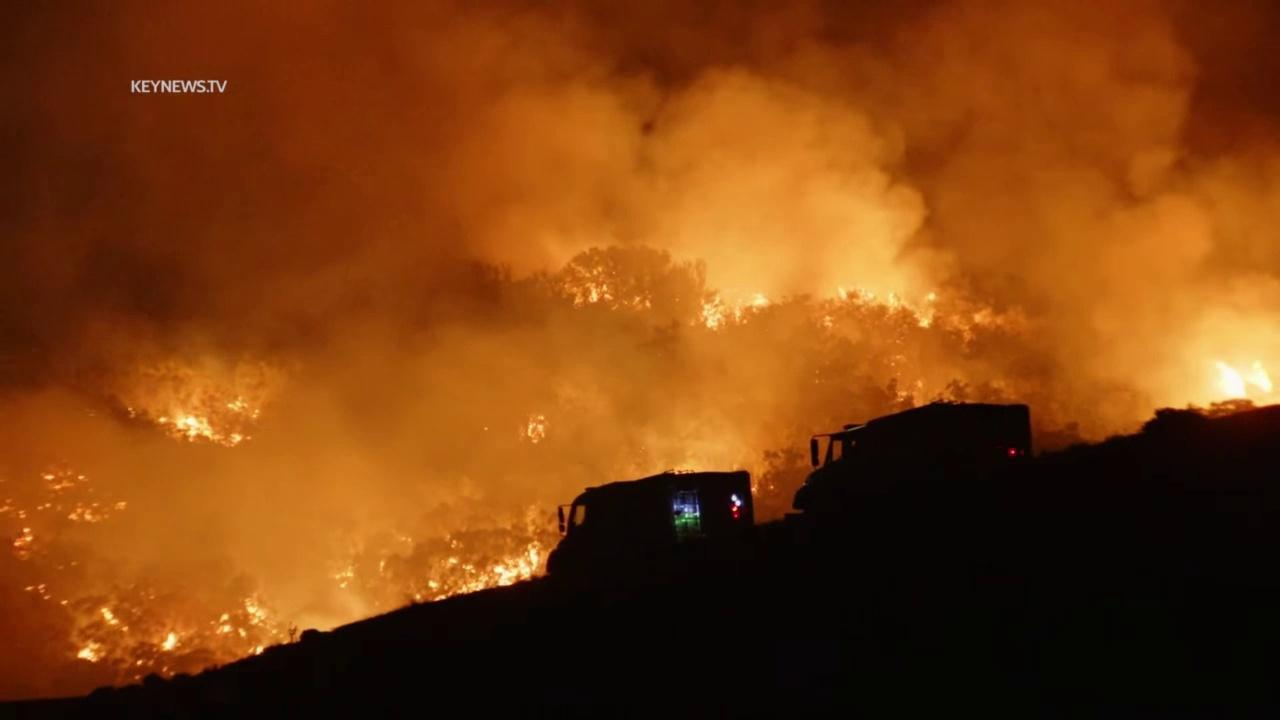fire: (412, 541, 543, 609), (150, 411, 245, 447), (1212, 357, 1274, 403), (696, 292, 730, 334), (734, 293, 772, 327), (516, 412, 553, 446), (240, 592, 271, 626), (65, 500, 110, 523), (914, 292, 938, 329), (102, 605, 131, 633), (76, 639, 108, 664), (836, 286, 876, 306), (159, 627, 182, 655), (333, 569, 356, 589), (225, 395, 250, 412), (218, 612, 234, 637), (587, 280, 600, 304), (887, 290, 901, 312), (112, 500, 129, 514), (247, 644, 266, 656), (378, 559, 387, 576), (238, 627, 248, 641)
smoke: (0, 0, 1280, 707)
